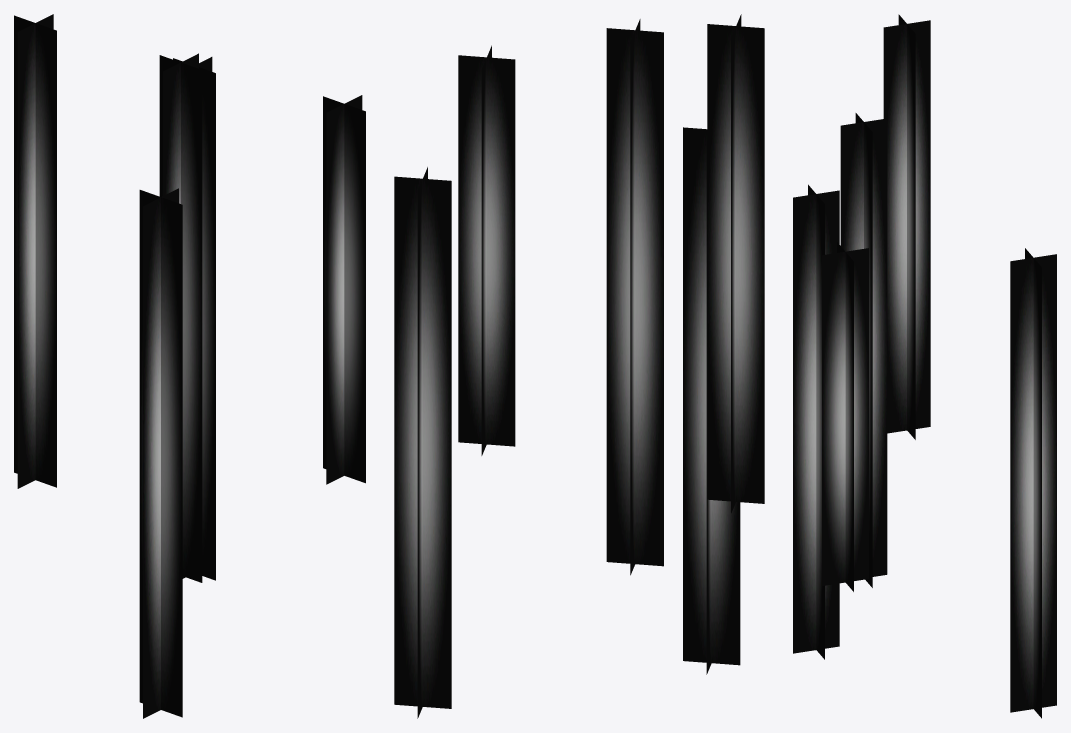
Rendered from vfx_kurp_0624.dae.
3 views of the same model, side by side, from view 1: azimuth 30°, elevation 25°; view 2: azimuth 150°, elevation 25°; view 3: azimuth 270°, elevation 25° (orthographic). The views are drawn at different scales.
Parts seen in each view (by area): view 1: vfx_kurp_0624; view 2: vfx_kurp_0624; view 3: vfx_kurp_0624.
Part boxes in pixels (box(x1,y1,x2,y2)): vfx_kurp_0624: box(14, 14, 365, 718); vfx_kurp_0624: box(394, 14, 764, 718); vfx_kurp_0624: box(793, 14, 1056, 718).
Bounding box in the file's own units: 10.31 × 8.29 × 20.57.
Materials: 1 (1 with a texture image).
